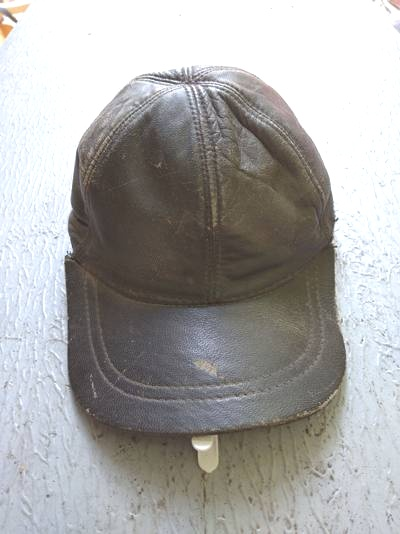Hat: (31, 55, 356, 457)
